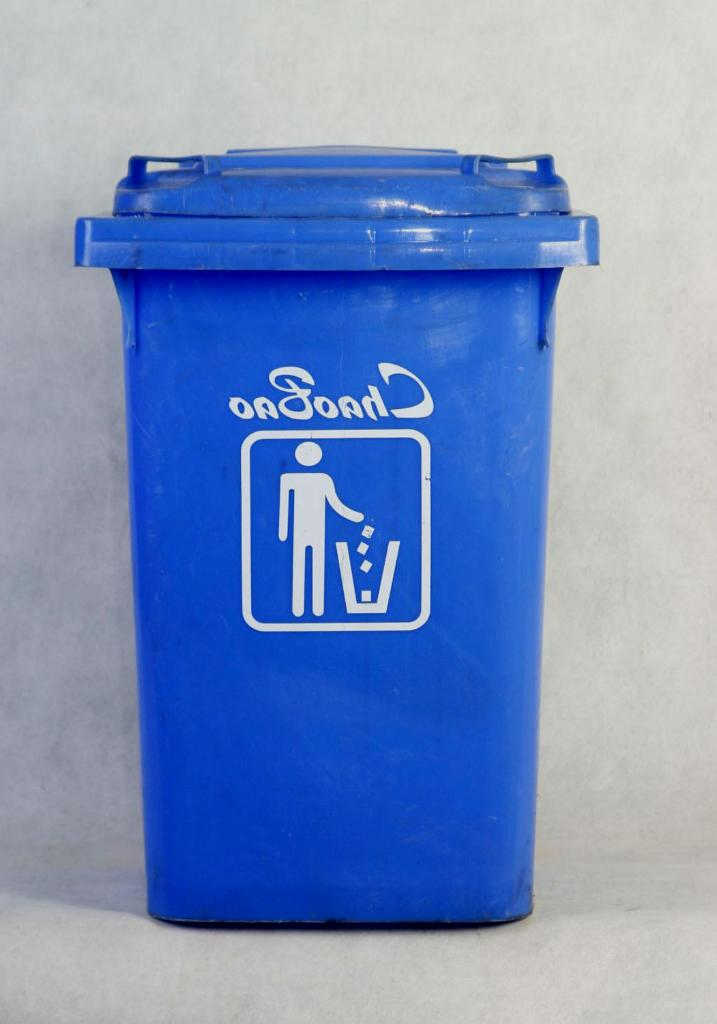dustbin: (73, 145, 590, 959)
